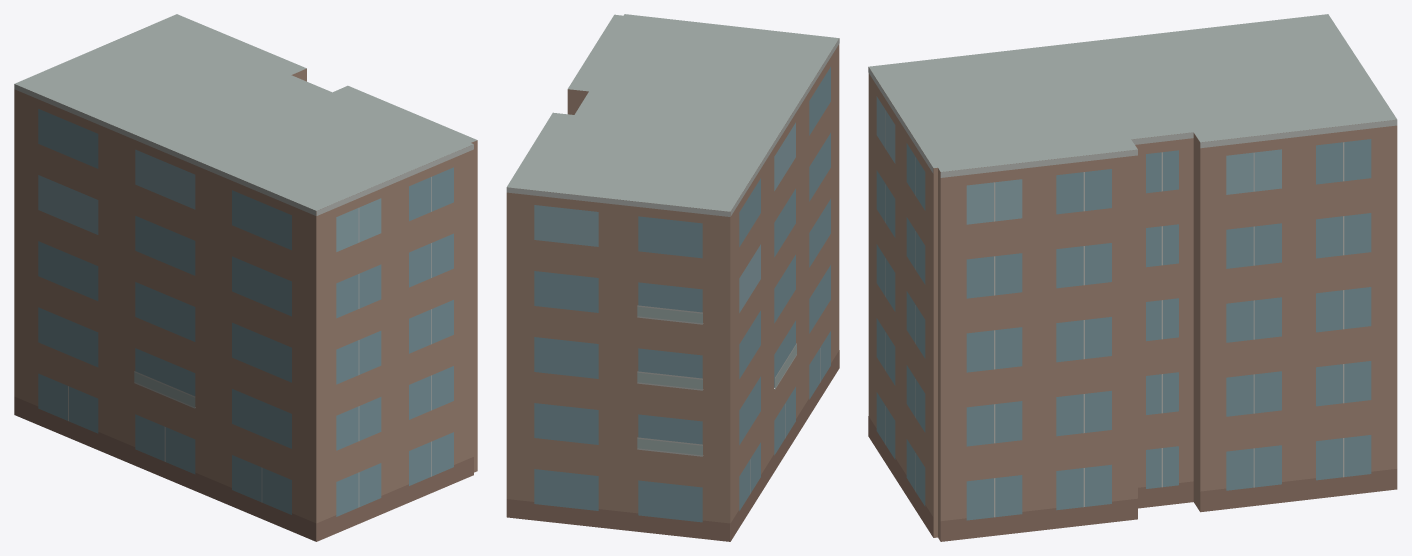
The model's file is survey-upis-32610915.glb.
The picture shows the model from 3 angles, left to right: view 1: azimuth 30°, elevation 25°; view 2: azimuth 150°, elevation 25°; view 3: azimuth 270°, elevation 25°; orthographic projection. The views are drawn at different scales.
Parts seen in each view (by area): view 1: survey-upis-32610915.tmp; view 2: survey-upis-32610915.tmp; view 3: survey-upis-32610915.tmp.
Part boxes in pixels (bbox=[...]): survey-upis-32610915.tmp: bbox=[14, 14, 477, 541]; survey-upis-32610915.tmp: bbox=[506, 14, 839, 541]; survey-upis-32610915.tmp: bbox=[868, 14, 1397, 541].
Bounding box in the file's own units: 13.99 × 15.25 × 19.78.
